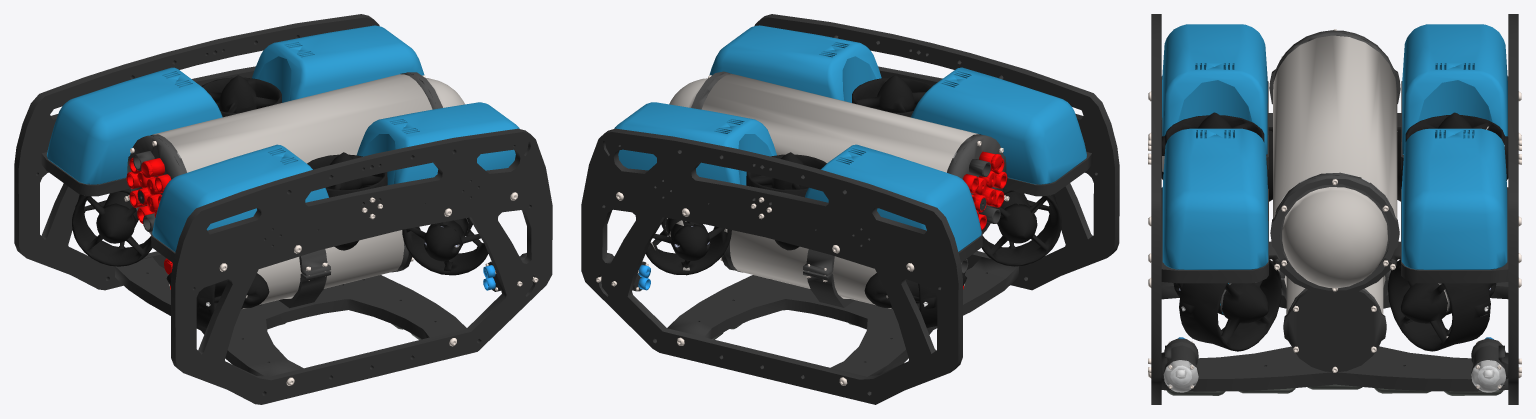
3 renders of one model, left to right at view 1: azimuth 30°, elevation 25°; view 2: azimuth 150°, elevation 25°; view 3: azimuth 270°, elevation 25°, orthographic. The views are drawn at different scales.
Parts seen in each view (by area): view 1: BROV2-BASE-mesh; view 2: BROV2-BASE-mesh; view 3: BROV2-BASE-mesh.
Part boxes in pixels (left/top/right/bottom): BROV2-BASE-mesh: left=14, top=14, right=552, bottom=404; BROV2-BASE-mesh: left=581, top=14, right=1119, bottom=404; BROV2-BASE-mesh: left=1148, top=14, right=1521, bottom=404.
Size of the model in its own units: 18 by 9.99 by 13.54.
